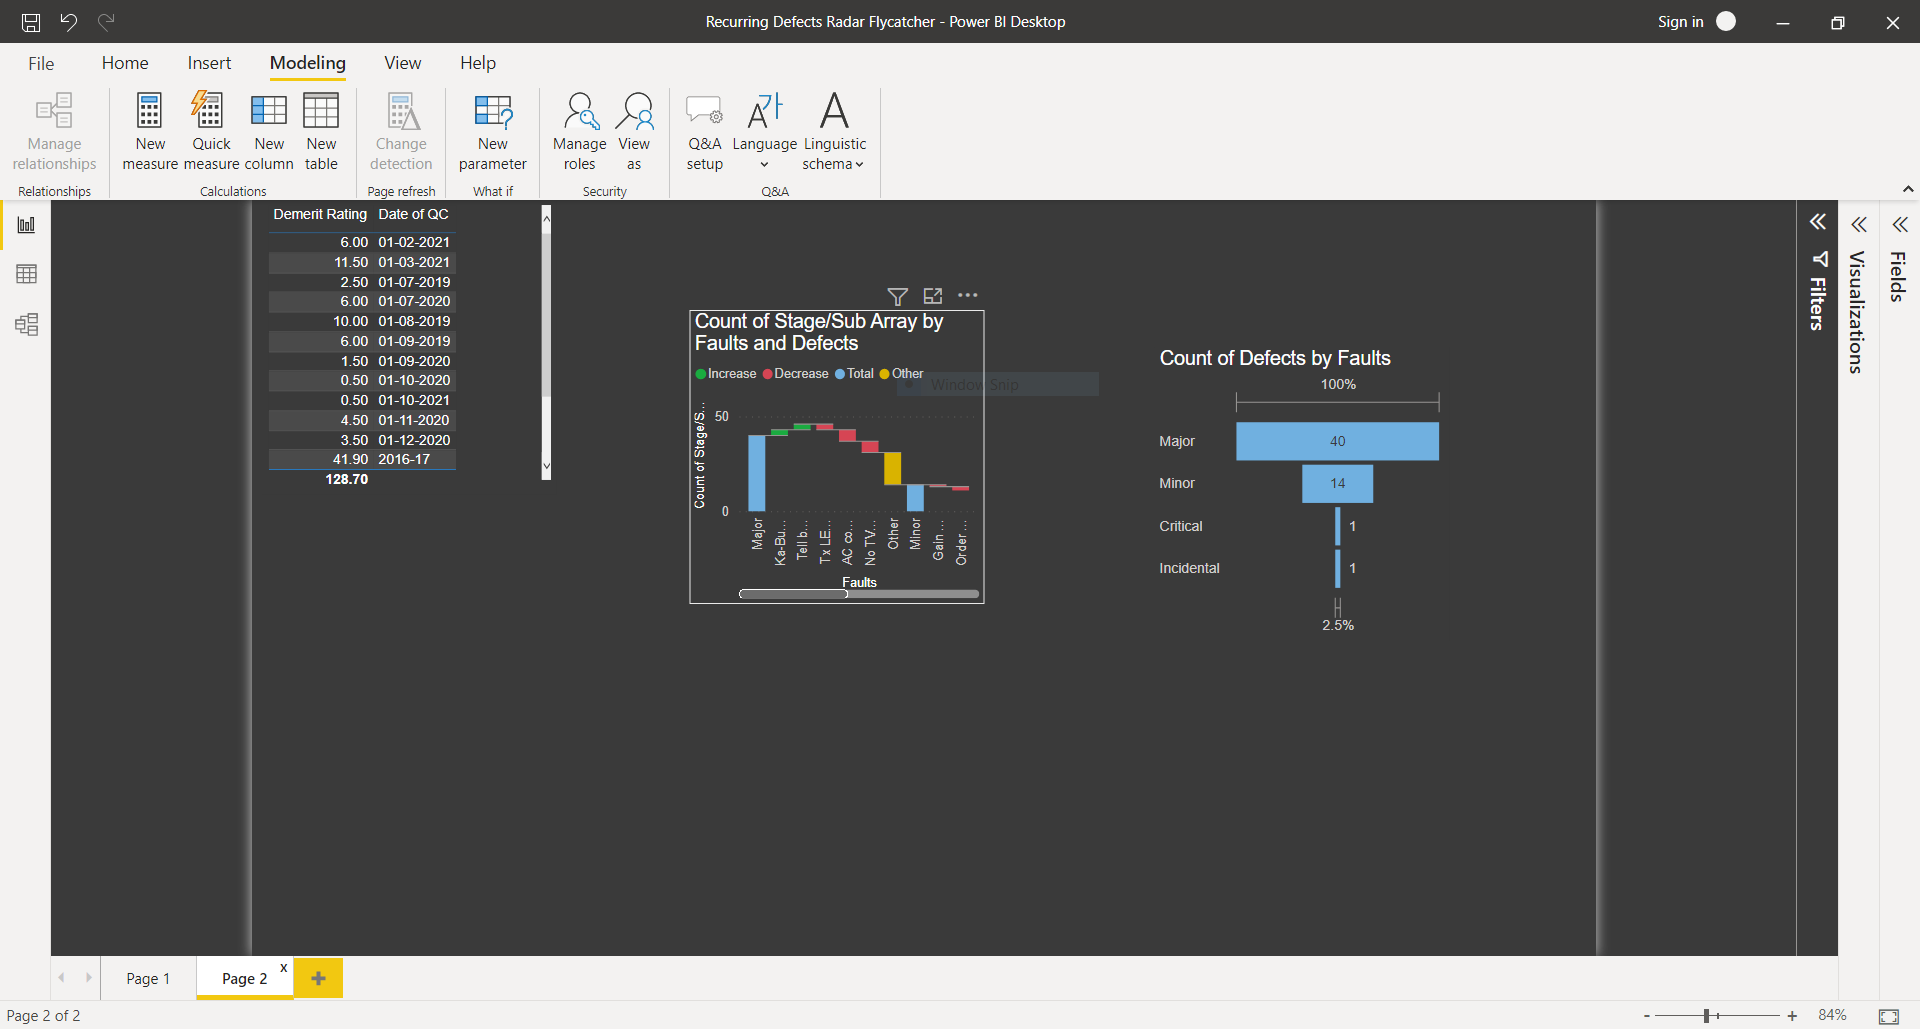

The page's visual inventory and layout, read from the dashboard file:
{"tool":"powerbi","page":{"name":"Page 2","canvas":[1280,720],"ordinal":1},"visuals":[{"type":"tableEx","fields":{"Values":["Sum(Sheet1.Demerit Rating)","Sheet1.Date of QC"]},"box":[10,0,280,280],"z":0},{"type":"waterfallChart","fields":{"Category":["Sheet1.Faults"],"Breakdown":["Sheet1.Defects"],"Y":["CountNonNull(Sheet1.Stage/Sub Array)"]},"box":[416.7,104.9,280.6,279.2],"z":1},{"type":"funnel","fields":{"Category":["Sheet1.Faults"],"Y":["CountNonNull(Sheet1.Defects)"]},"box":[858.9,140.3,280.6,279.2],"z":2}]}

Visuals, with their boxes on the page's 1280x720 design canvas (x1, y1, x2, y2). These are canvas units, not pixel positions in the 1920x1029 screenshot, which may show the page scaled, cropped or inside an application window:
tableEx - Sum(Sheet1.Demerit Rating) x Sheet1.Date of QC: bbox=(10, 0, 290, 280)
waterfallChart - Sheet1.Faults x Sheet1.Defects: bbox=(417, 105, 697, 384)
funnel - Sheet1.Faults x CountNonNull(Sheet1.Defects): bbox=(859, 140, 1140, 420)
